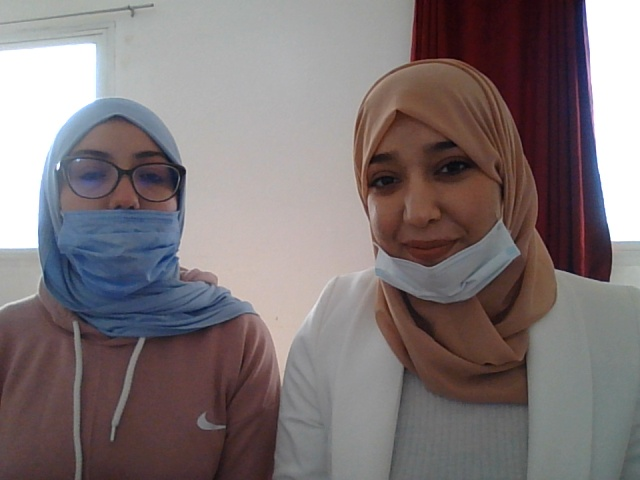mask_weared_incorrect: (345, 76, 543, 319), (27, 116, 199, 350)
